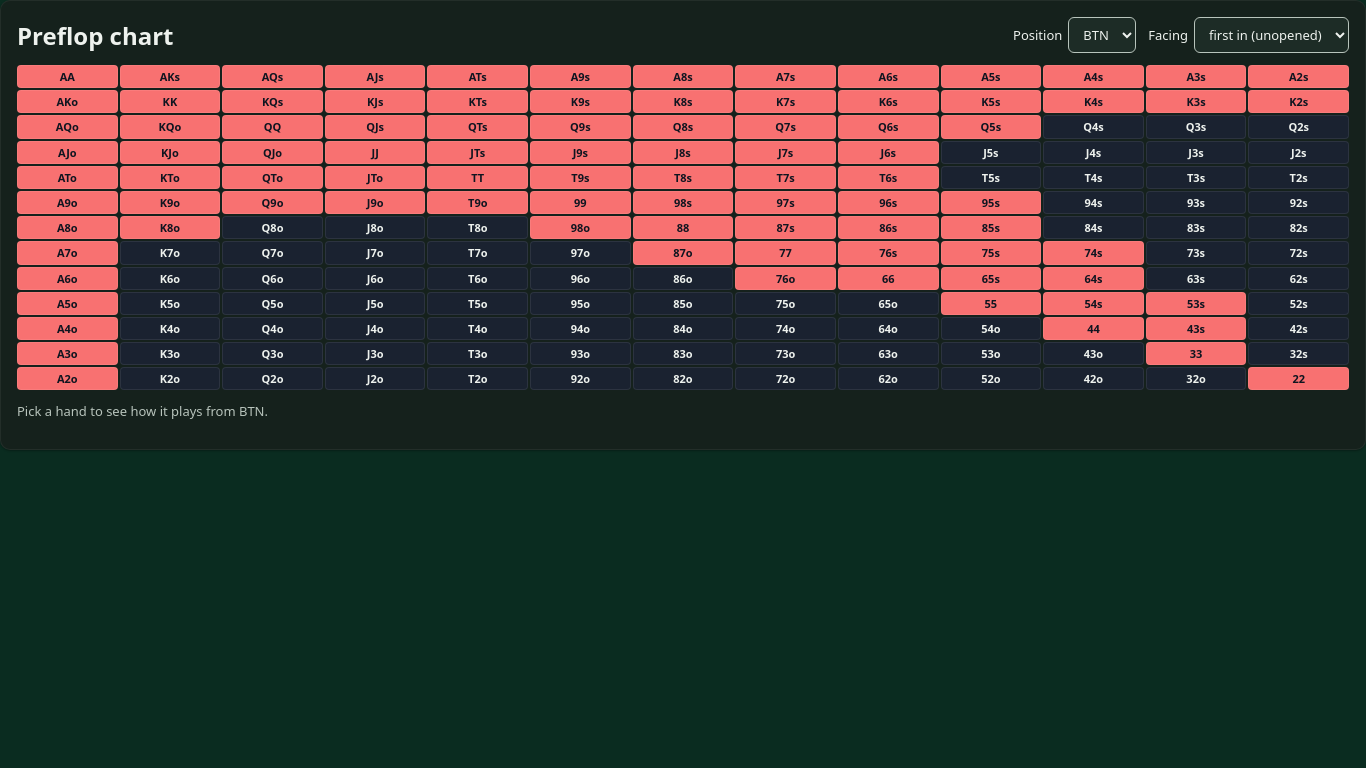
Test: PreflopChartTab › shows a plain-language detail card on cell click
This screenshot has width=1366, height=768.
Click the button with aria-label "AKs, ".
click(170, 77)  # box x1=120 y1=65 x2=220 y2=88
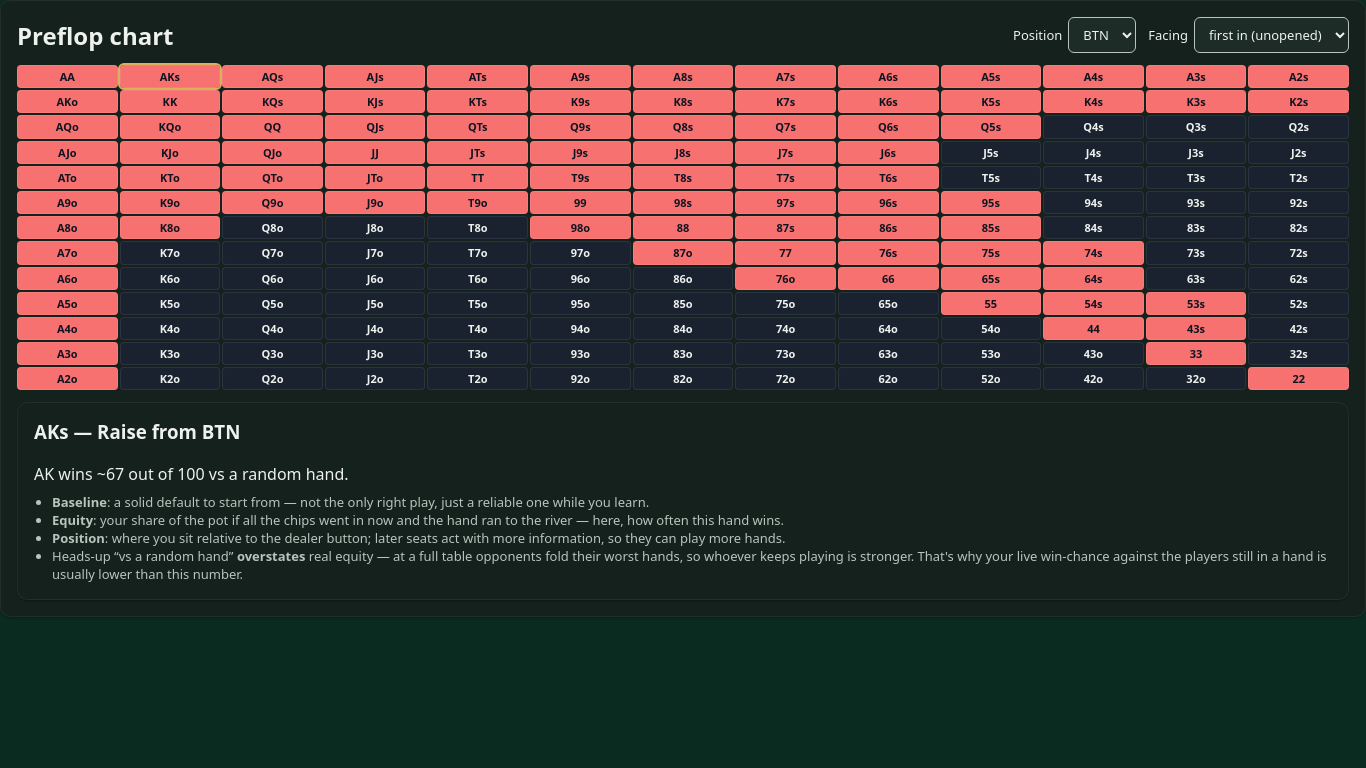
Expected: the text "AK wins ~67 out of 100 vs a random hand." is shown, x1=34 y1=463 x2=349 y2=485
Expected: the text "Baseline" is shown, x1=52 y1=493 x2=107 y2=511
Expected: the text "overstates" is shown, x1=237 y1=547 x2=305 y2=565
